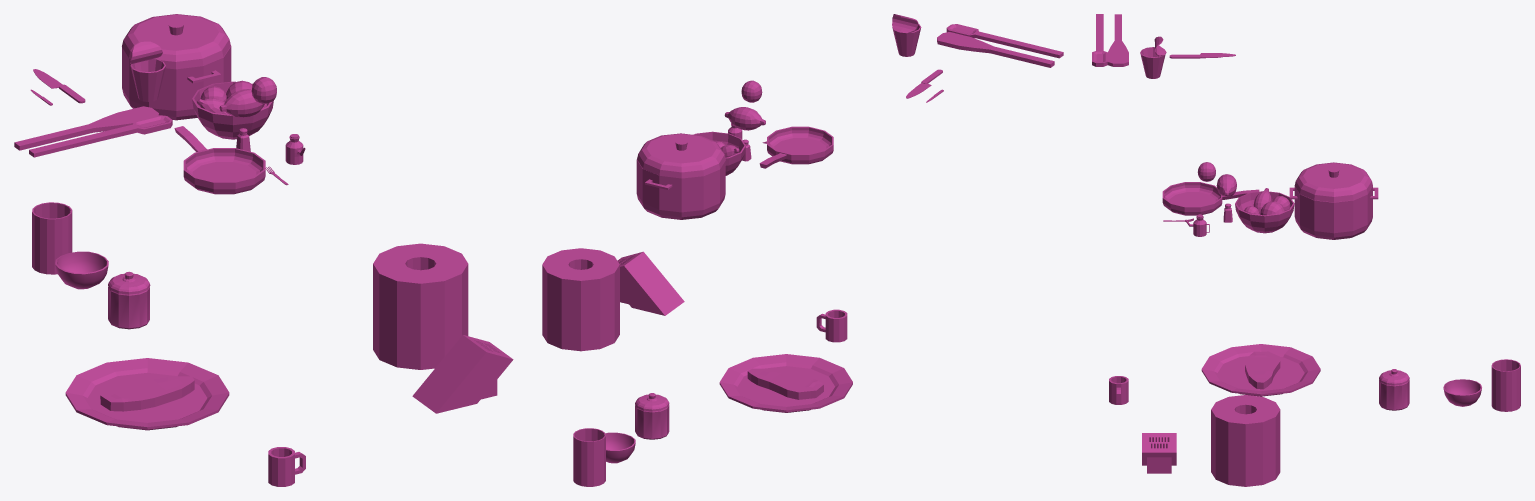
The model's file is Kitchen_Set_Props_01.fbx.
The picture shows the model from 3 angles, left to right: view 1: azimuth 30°, elevation 25°; view 2: azimuth 150°, elevation 25°; view 3: azimuth 270°, elevation 25°; orthographic projection. The views are drawn at different scales.
Parts seen in each view (by area): view 1: Rollo_Papel_DONE, PlateDONE, Knife_HolderDONE, Lid_Pot, Frying_Pan_DONE, Base_Pot, Fruit_BasketDONE, RecipienteCubiertosDONE, SteakDONE, Wooden_Spoon_2_DONE, BolDONE, Wooden_Spoon_1_DONE (+7 smaller); view 2: Rollo_Papel_DONE, PlateDONE, Base_Pot, Lid_Pot, Knife_HolderDONE, Frying_Pan_DONE, RecipienteCubiertosDONE, SteakDONE, Wooden_Spoon_2_DONE, tarro, Wooden_Spoon_1_DONE, Fruit_BasketDONE (+4 smaller); view 3: Rollo_Papel_DONE, PlateDONE, Base_Pot, Lid_Pot, Fruit_BasketDONE, Frying_Pan_DONE, RecipienteCubiertosDONE, Knife_HolderDONE, SteakDONE, BolDONE, tarro, Wooden_Spoon_2_DONE (+3 smaller).
Boxes of the visible parts, x1,y1,x2,y2 form: Rollo_Papel_DONE: [373, 243, 468, 369]; PlateDONE: [65, 358, 229, 430]; Knife_HolderDONE: [412, 335, 513, 413]; Lid_Pot: [122, 14, 230, 69]; Frying_Pan_DONE: [174, 126, 265, 194]; Base_Pot: [122, 46, 231, 120]; Fruit_BasketDONE: [192, 80, 273, 139]; RecipienteCubiertosDONE: [32, 202, 72, 274]; SteakDONE: [100, 376, 194, 411]; Wooden_Spoon_2_DONE: [14, 106, 158, 150]; BolDONE: [55, 251, 108, 289]; Wooden_Spoon_1_DONE: [29, 115, 172, 157]; Rollo_Papel_DONE: [542, 248, 619, 351]; PlateDONE: [719, 354, 852, 412]; Base_Pot: [636, 159, 725, 219]; Lid_Pot: [637, 133, 725, 178]; Knife_HolderDONE: [617, 251, 684, 315]; Frying_Pan_DONE: [759, 126, 833, 168]; RecipienteCubiertosDONE: [573, 428, 605, 486]; SteakDONE: [747, 368, 823, 399]; Wooden_Spoon_2_DONE: [937, 32, 1054, 67]; tarro: [635, 405, 669, 439]; Wooden_Spoon_1_DONE: [946, 24, 1063, 58]; Fruit_BasketDONE: [693, 131, 745, 175]; Rollo_Papel_DONE: [1211, 395, 1280, 486]; PlateDONE: [1201, 344, 1320, 396]; Base_Pot: [1294, 186, 1372, 239]; Lid_Pot: [1294, 162, 1372, 202]; Fruit_BasketDONE: [1235, 188, 1294, 233]; Frying_Pan_DONE: [1162, 182, 1259, 215]; RecipienteCubiertosDONE: [1491, 359, 1520, 411]; Knife_HolderDONE: [1142, 433, 1176, 473]; SteakDONE: [1245, 351, 1280, 389]; BolDONE: [1443, 379, 1481, 406]; tarro: [1379, 380, 1409, 410]; Wooden_Spoon_2_DONE: [1107, 14, 1128, 66].
Size of the model in its own units: 193 by 153 by 185.
